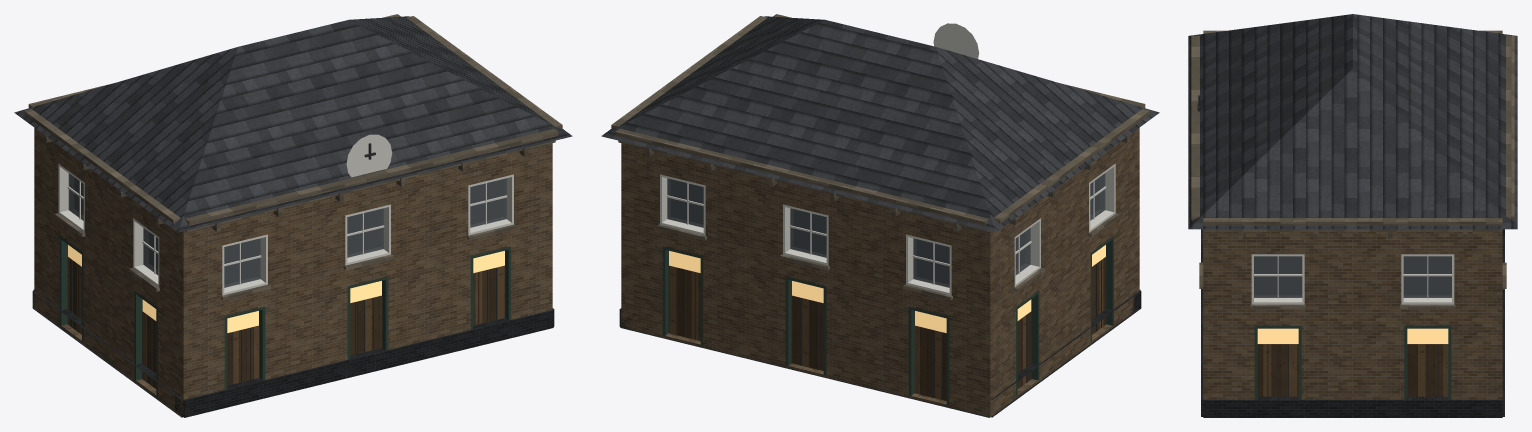
The model's file is A_gatehouse.glb.
3 views of the same model, side by side, from view 1: azimuth 30°, elevation 25°; view 2: azimuth 150°, elevation 25°; view 3: azimuth 270°, elevation 25° (orthographic).
Visible parts, largest first — view 1: A_gatehouse; view 2: A_gatehouse; view 3: A_gatehouse.
Boxes of the visible parts, x1=… form: A_gatehouse: x1=14, y1=14, x2=572, y2=417; A_gatehouse: x1=601, y1=14, x2=1159, y2=417; A_gatehouse: x1=1188, y1=14, x2=1517, y2=417.
Bounding box in the file's own units: 10.7 × 7.36 × 7.7.
11 materials, 5 textured.
